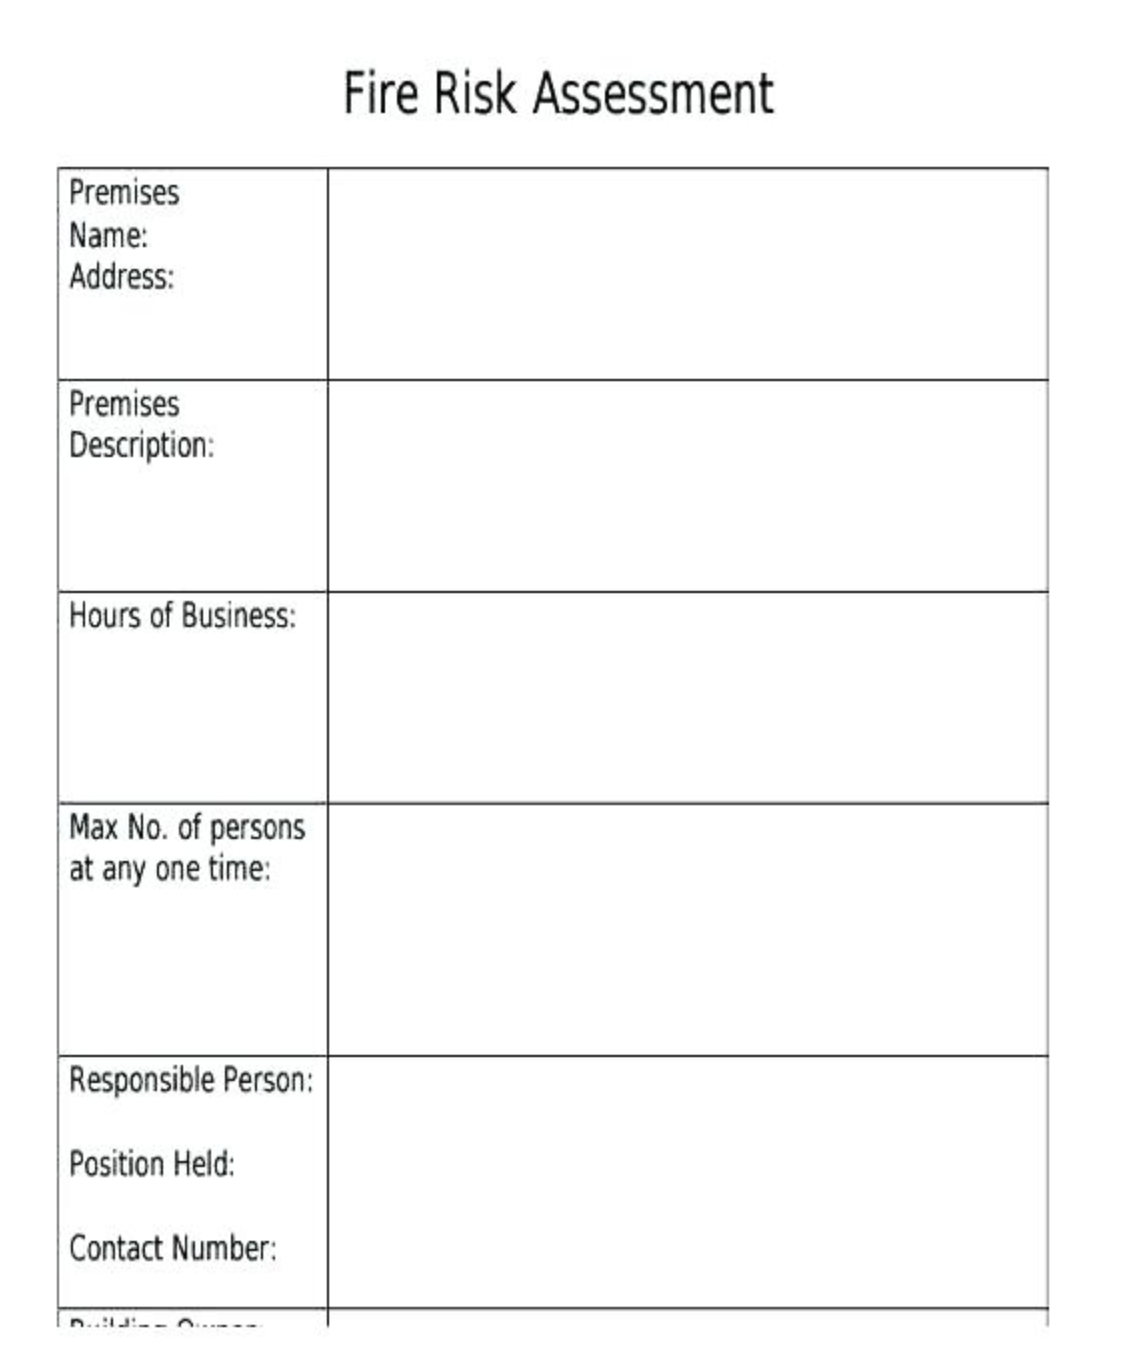textbox: (322, 1040, 1055, 1315), (319, 794, 1057, 1067), (320, 363, 1057, 601), (317, 157, 1057, 392), (320, 580, 1057, 811)
